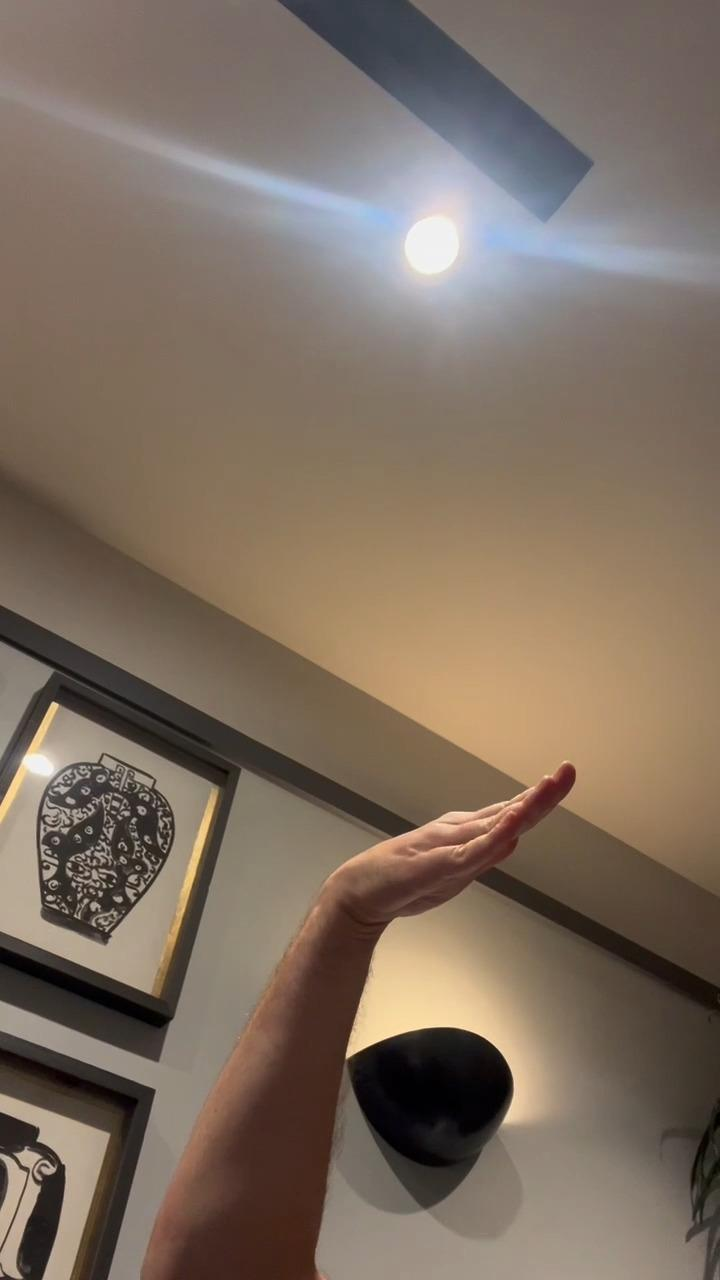Paper: (328, 762, 576, 920)
